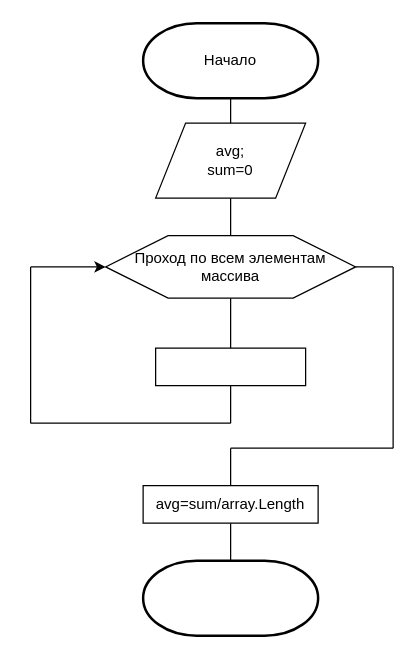
Image size: 416x658. Some labels were removed from this diagram. The centre of each missing label's shape, as x and y in pixels:
sum=sum+array[i]: the point at 230,366
Конец: the point at 230,597
